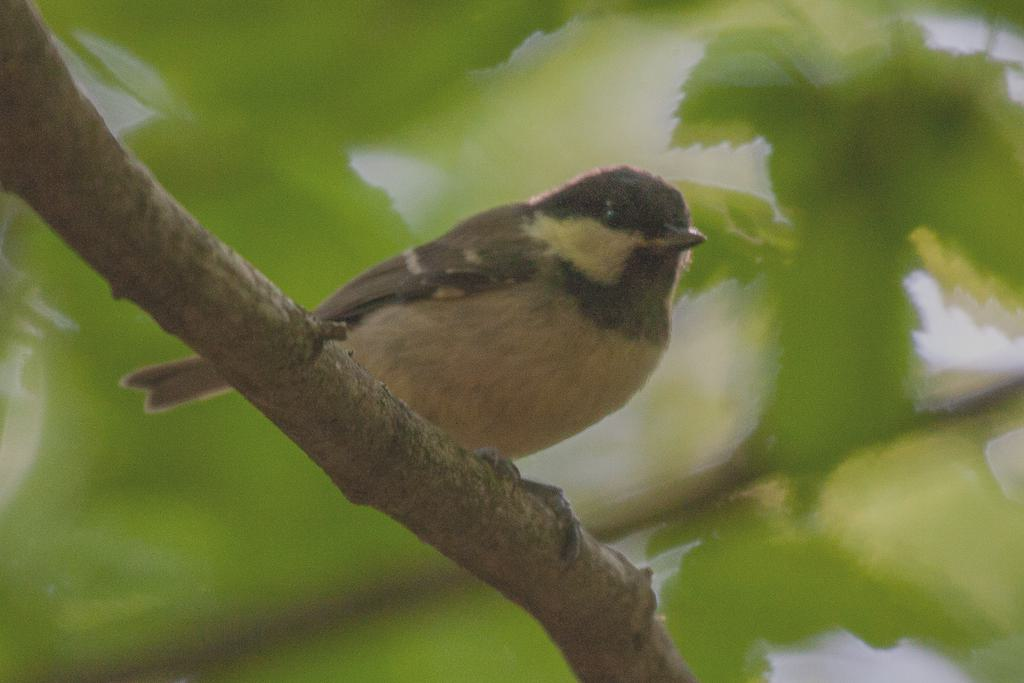PeriparusAter: (115, 161, 710, 580)
